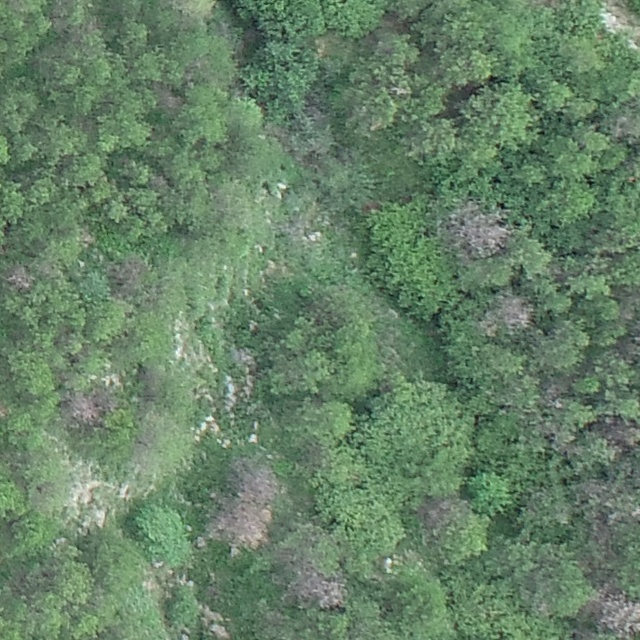unhealthy: (443, 201, 513, 258), (292, 565, 347, 609), (592, 588, 640, 636), (235, 465, 281, 507), (485, 293, 535, 331), (228, 505, 271, 549), (419, 495, 465, 528), (108, 255, 147, 292), (63, 390, 100, 425), (152, 84, 184, 112), (6, 263, 36, 292), (575, 478, 609, 501)
